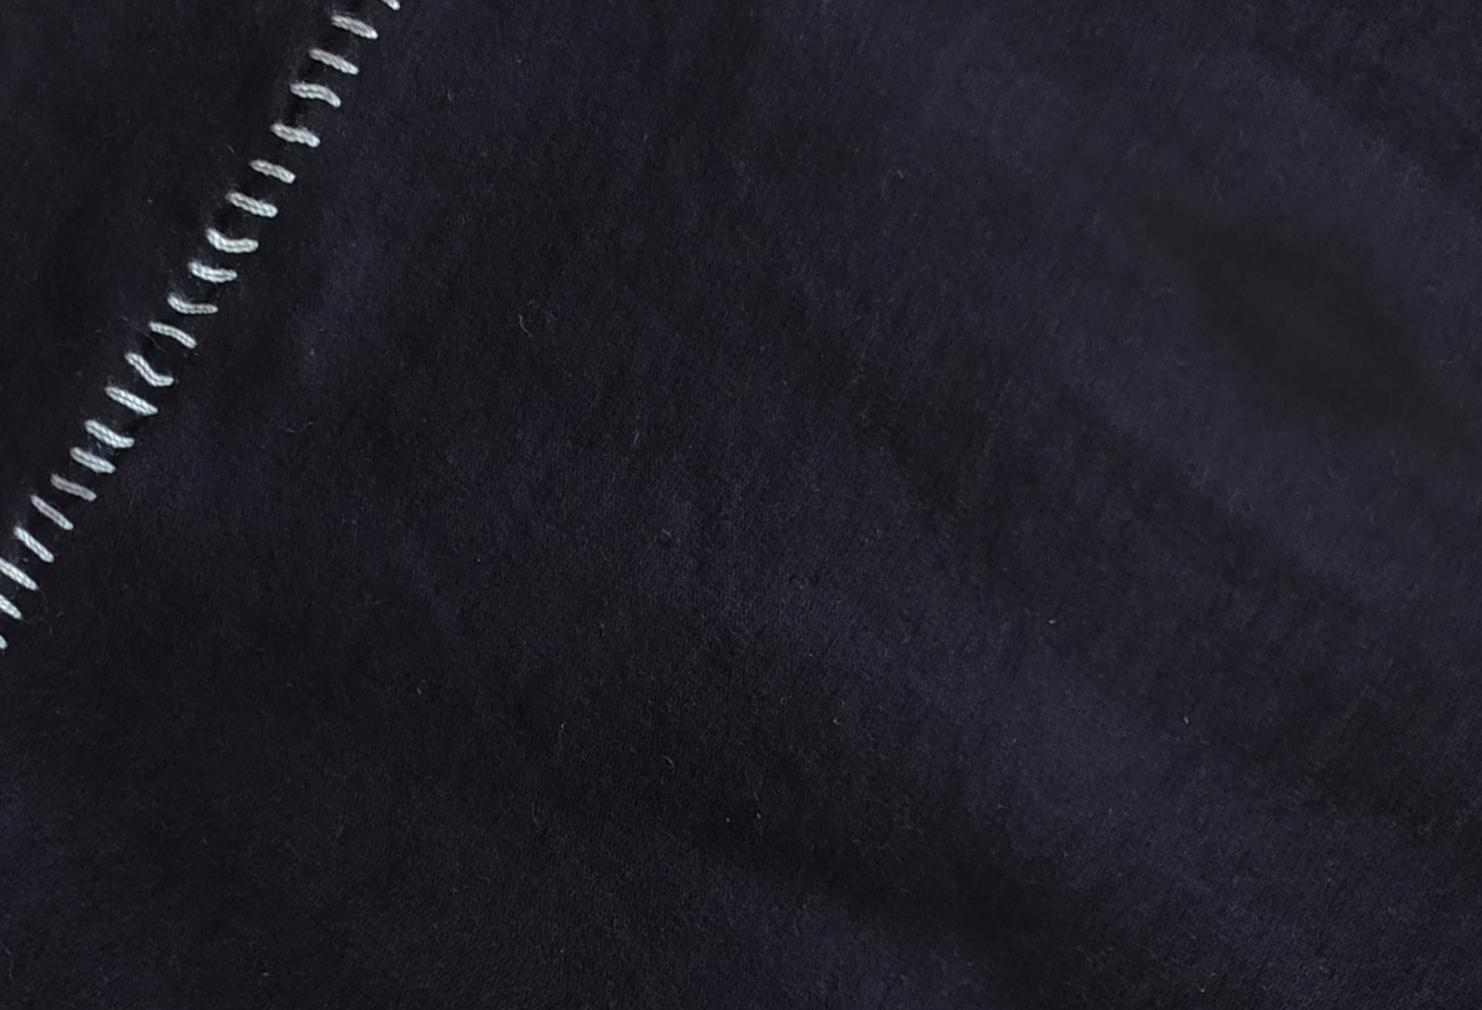slub: (1, 1, 396, 656)
